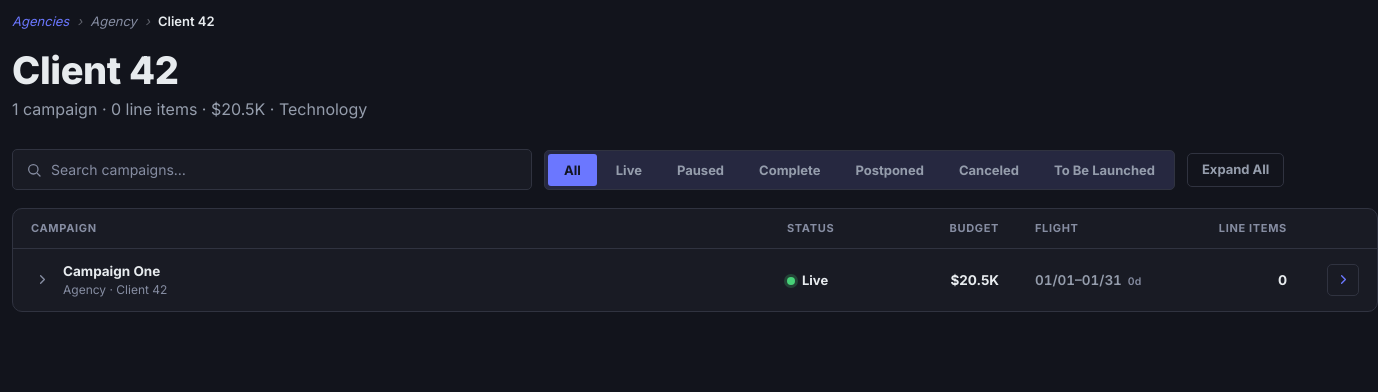
it: Campaigns › should expand a campaign row to show its real line items, and collapse it again
The width and height of the screenshot is (1378, 392).
# the row's own expand chevron is clicked (not the row itself, which navigates)
What coordinates should you click on to do the following:
click the button named "Expand Campaign One"
I would click on:
 (42, 280)
Its box is [31,269,53,291].
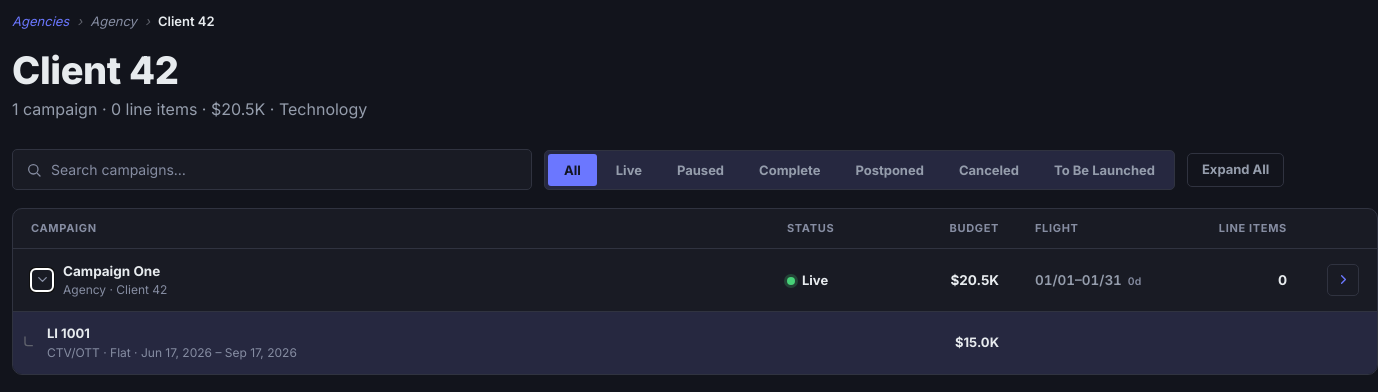
Now the text "LI 1001" is shown, box [47,325,90,341]
Now the text "CTV/OTT · Flat · Jun 17, 2026 – Sep 17, 2026" is shown, box [47,344,297,362]
Now the text "$15.0K" is shown, box [901,312,1017,374]
# collapsed again
What coordinates should you click on to do the following:
click the button named "Collapse Campaign One"
I would click on:
 (42, 280)
Its box is [31,269,53,291].
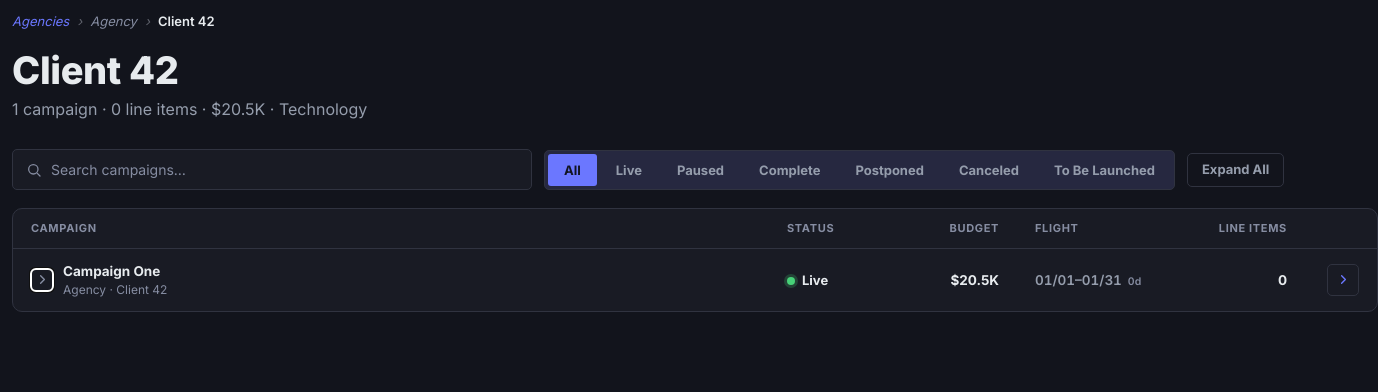
Now the text "LI 1001" is gone
